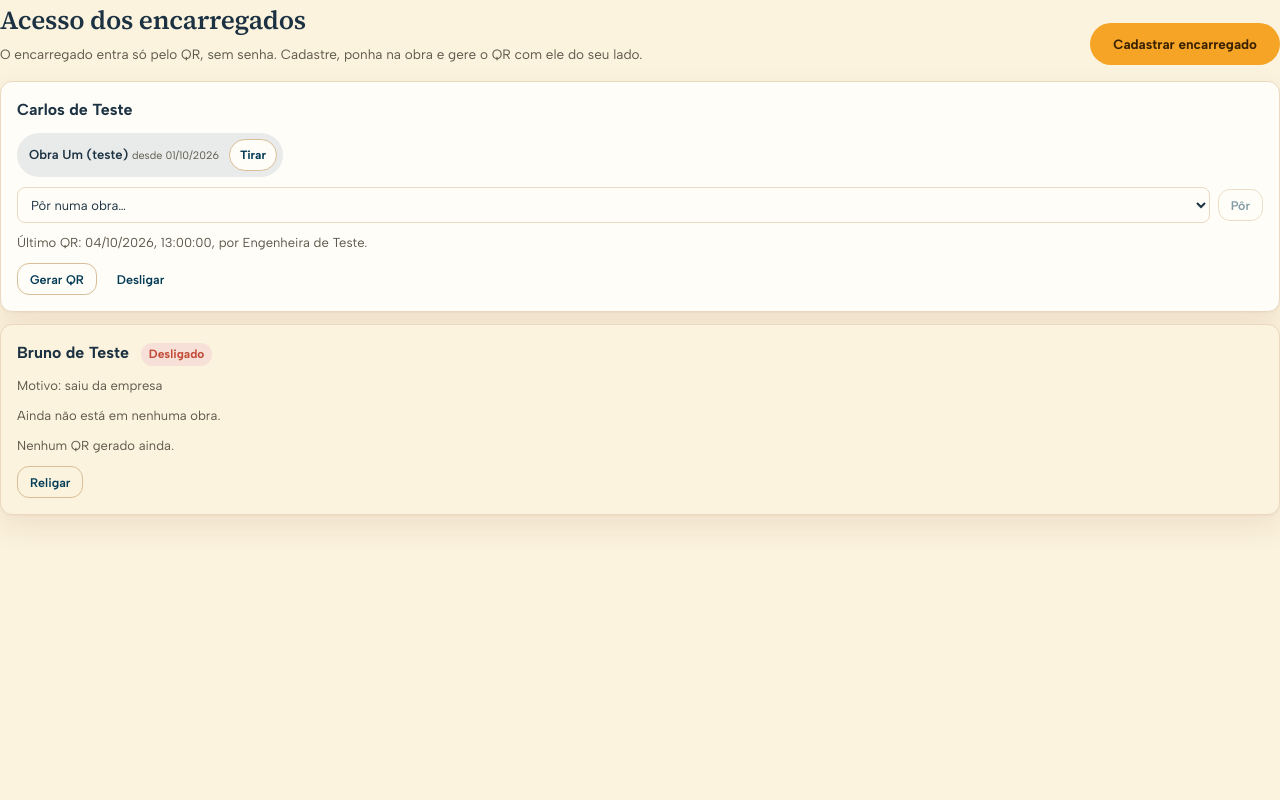
Test: cadastrar › o cadastro foi mas a obra não: o aviso aparece; a recusa fica na caixa
The width and height of the screenshot is (1280, 800).
Expected: the text "Carlos de Teste" is shown, [17,98,132,123]
Click the button "Cadastrar encarregado" at (1185, 44), box [1090,23,1279,65]
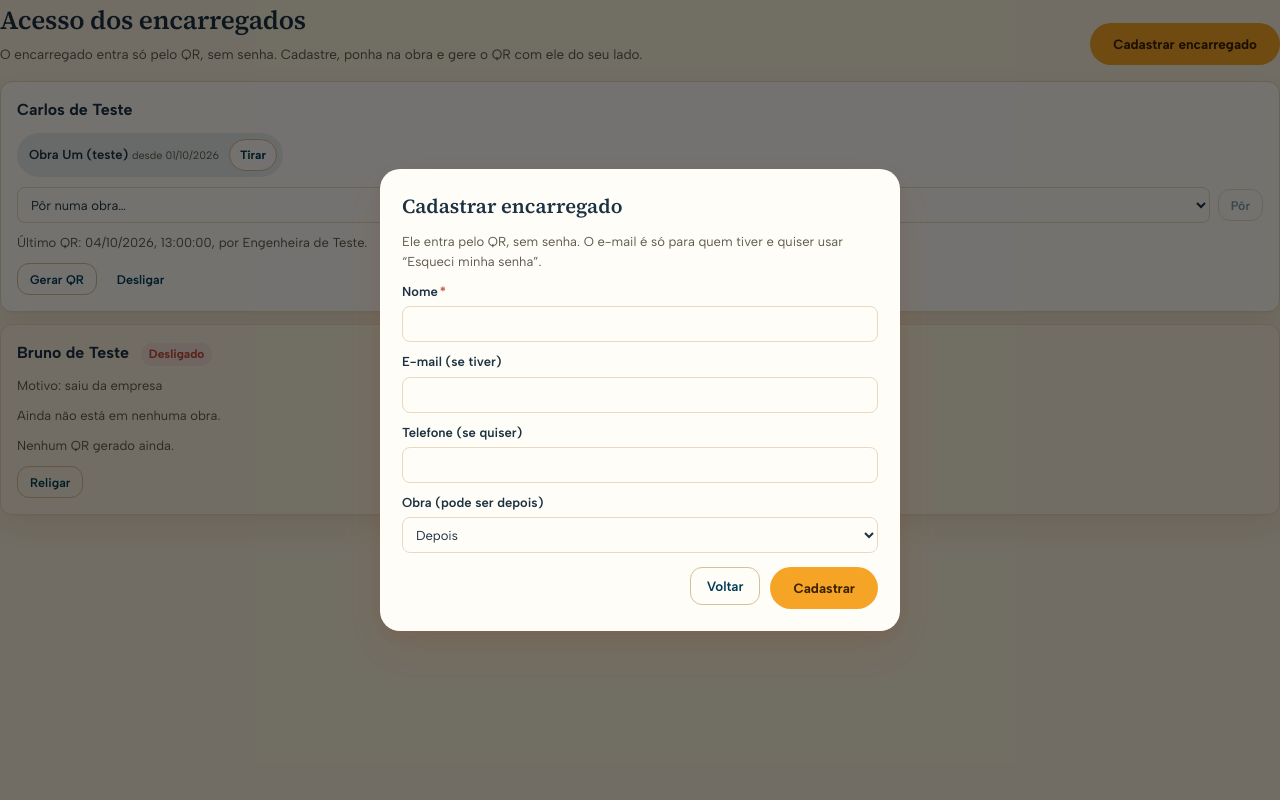
Type "Davi" into the field labelled "Nome*" at (640, 324), box [402,306,878,342]
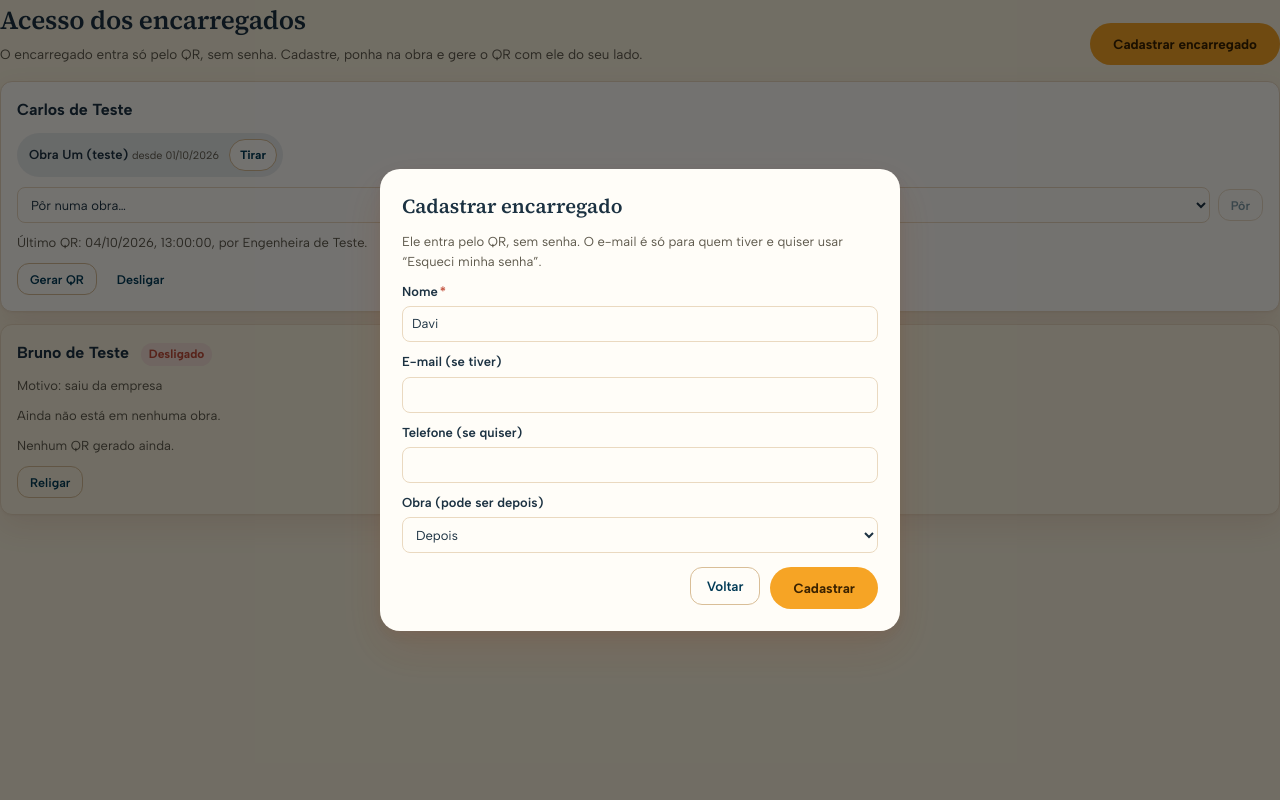
Click the button "Cadastrar" at (824, 588), box [770,567,878,609]
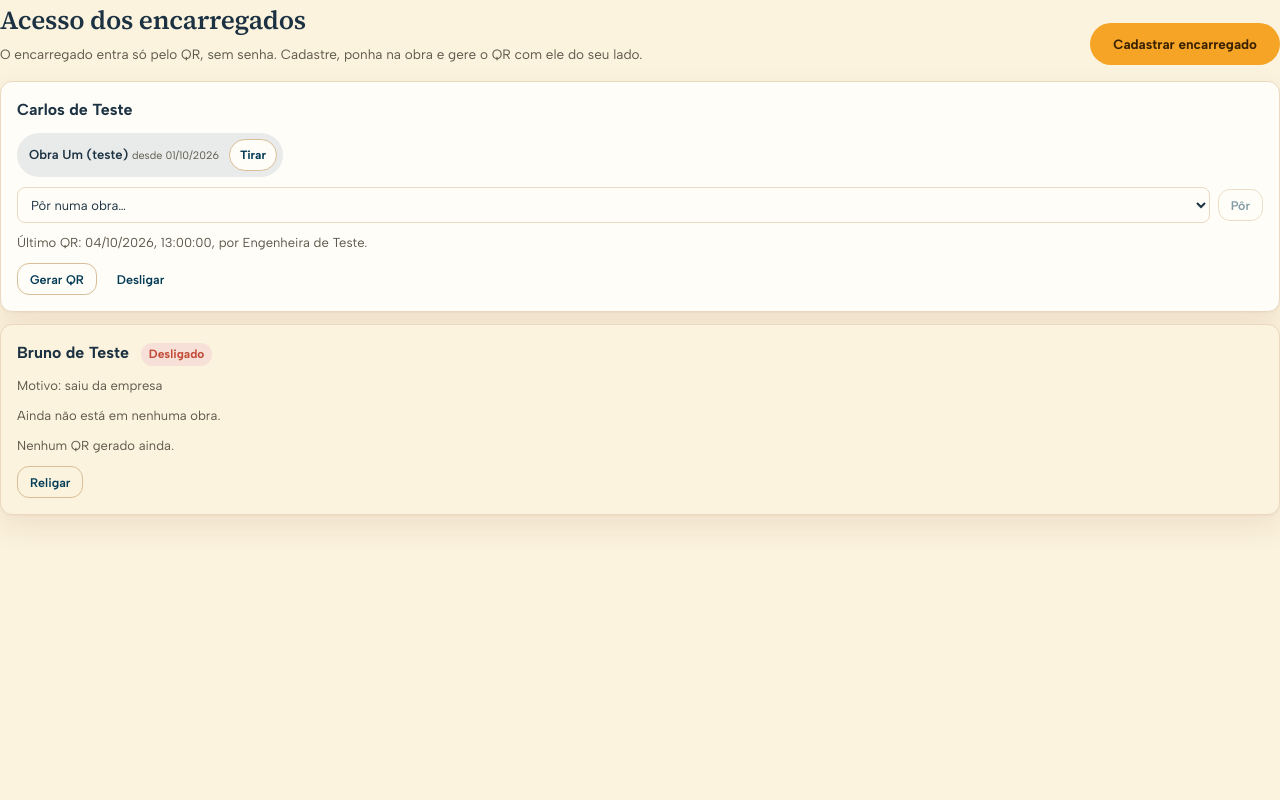
Click the button "Cadastrar encarregado" at (1185, 44), box [1090,23,1279,65]
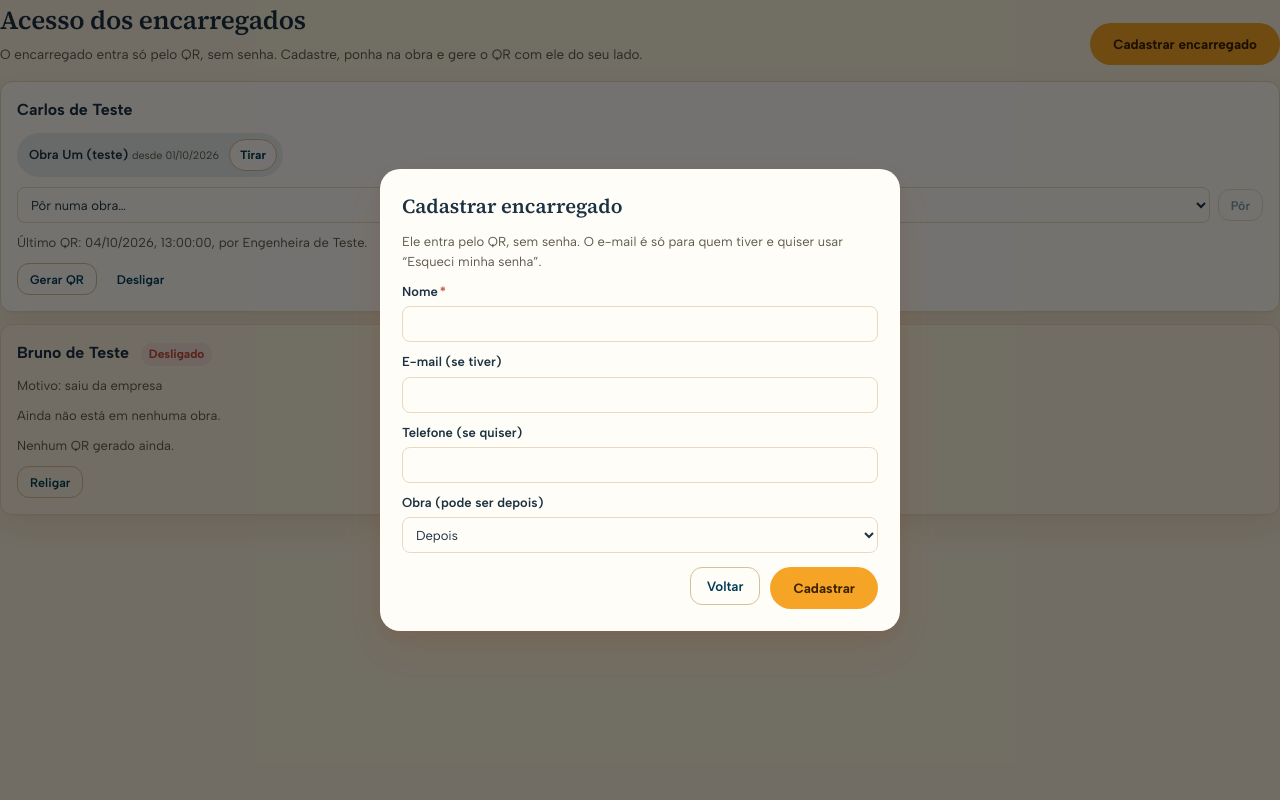
Type "Eva" into the field labelled "Nome*" at (640, 324), box [402,306,878,342]
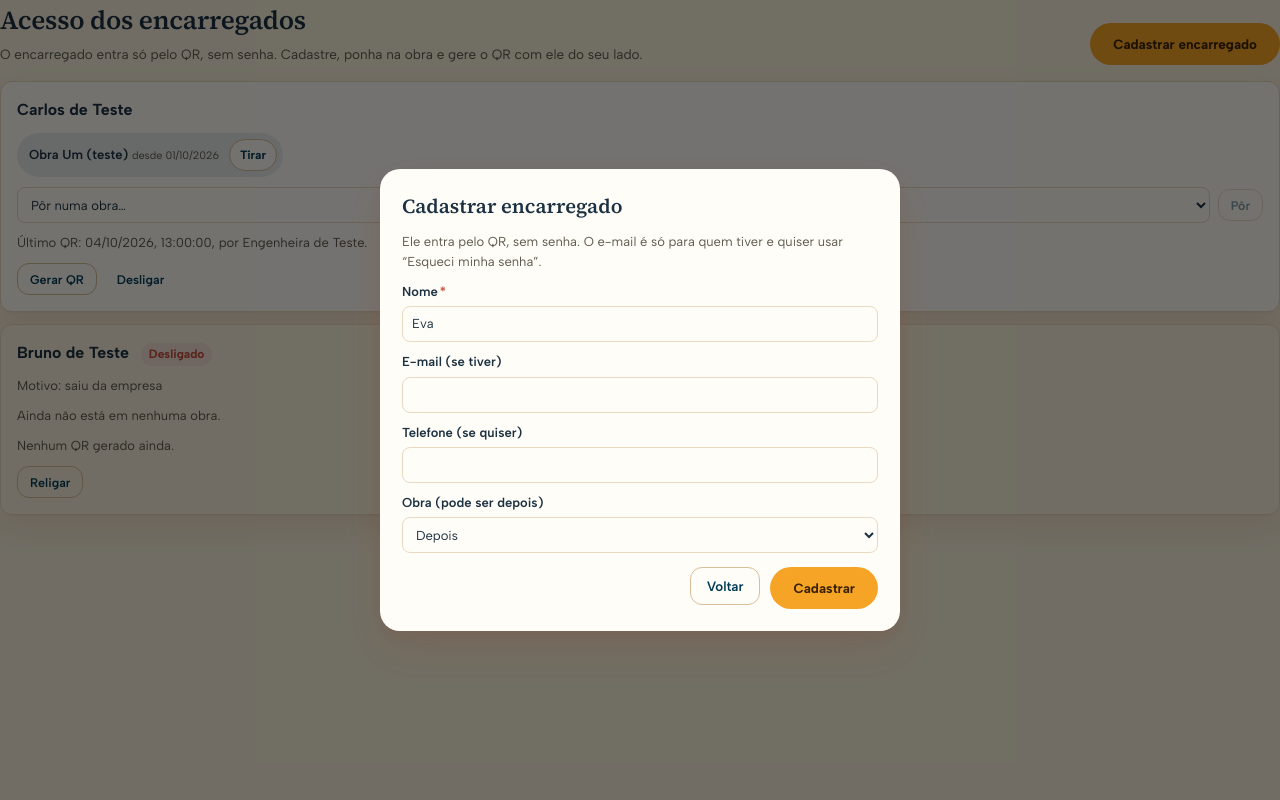
Click the button "Cadastrar" at (824, 588), box [770,567,878,609]
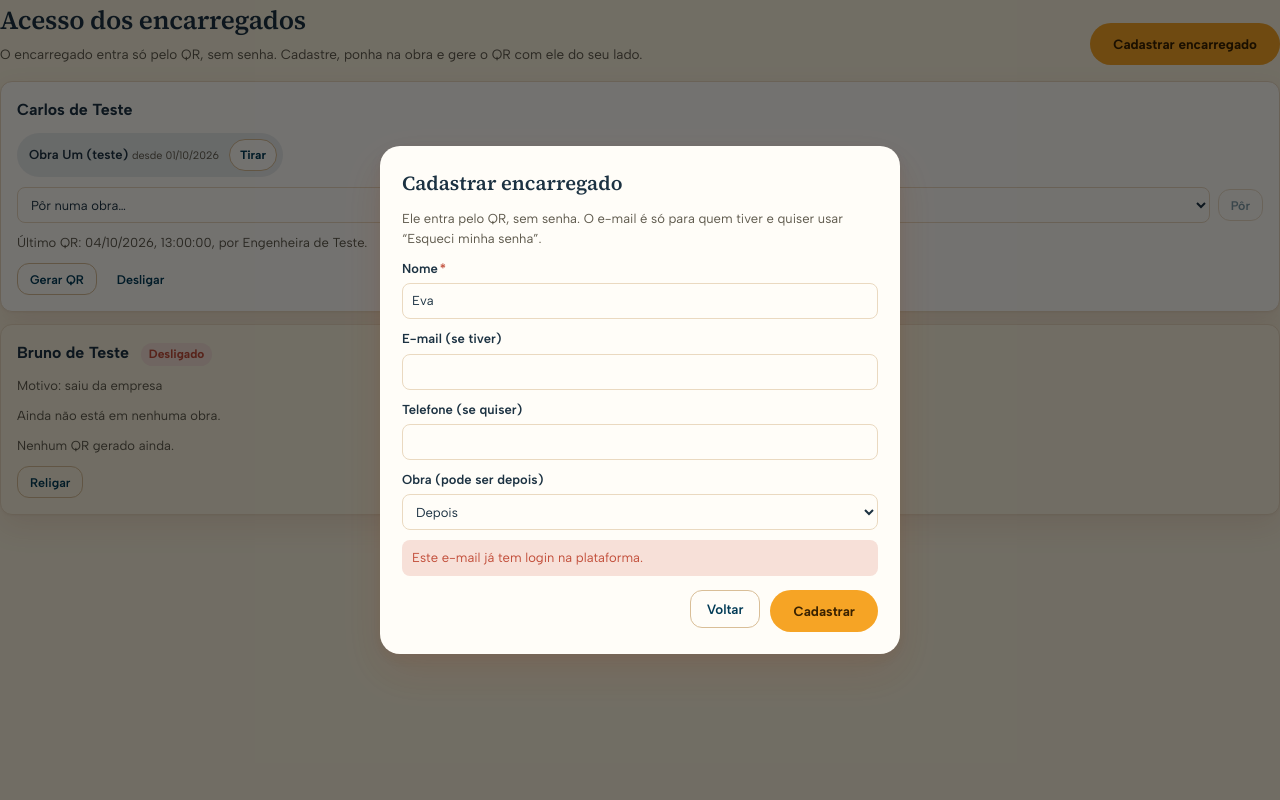
Now the message reads "Este e-mail já tem login na plataforma.", box [412,550,643,565]
